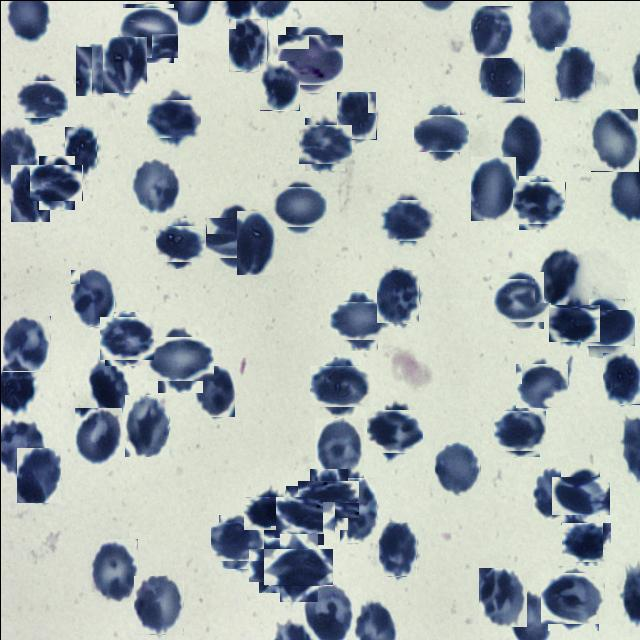red blood cell: (544, 568, 602, 626), (88, 538, 137, 601), (152, 331, 208, 386), (120, 5, 175, 60), (590, 108, 638, 171), (133, 575, 183, 634), (314, 417, 363, 477), (270, 540, 324, 594), (470, 156, 515, 220), (478, 567, 526, 626), (74, 407, 121, 466), (130, 158, 180, 213), (124, 394, 168, 456), (2, 315, 50, 371), (206, 212, 258, 262), (498, 115, 540, 176), (314, 361, 364, 412), (496, 274, 546, 325), (70, 269, 114, 326), (369, 406, 419, 456), (302, 474, 352, 524), (102, 36, 146, 92), (516, 360, 566, 409), (434, 442, 480, 495), (236, 210, 274, 274), (16, 447, 60, 502), (339, 477, 376, 542), (332, 296, 382, 344), (87, 359, 129, 416), (101, 314, 150, 362), (280, 490, 328, 539), (75, 43, 119, 96), (376, 268, 419, 322), (274, 182, 322, 230), (382, 195, 430, 243), (556, 471, 604, 519), (534, 248, 576, 302), (515, 178, 563, 225), (582, 304, 630, 351), (10, 164, 49, 221), (300, 120, 348, 166), (480, 52, 524, 102), (470, 5, 512, 57), (417, 109, 464, 155), (150, 94, 197, 140), (554, 46, 594, 100), (214, 518, 260, 564), (496, 407, 542, 453), (550, 300, 596, 345), (228, 18, 267, 71), (378, 522, 416, 576), (194, 365, 234, 416), (252, 542, 298, 586), (18, 76, 64, 120), (259, 60, 299, 110), (34, 159, 78, 204), (602, 352, 640, 404), (564, 520, 608, 564), (158, 220, 202, 264), (336, 91, 376, 139), (532, 468, 569, 517), (248, 492, 290, 534), (64, 126, 96, 174)
ring: (281, 30, 339, 88)
